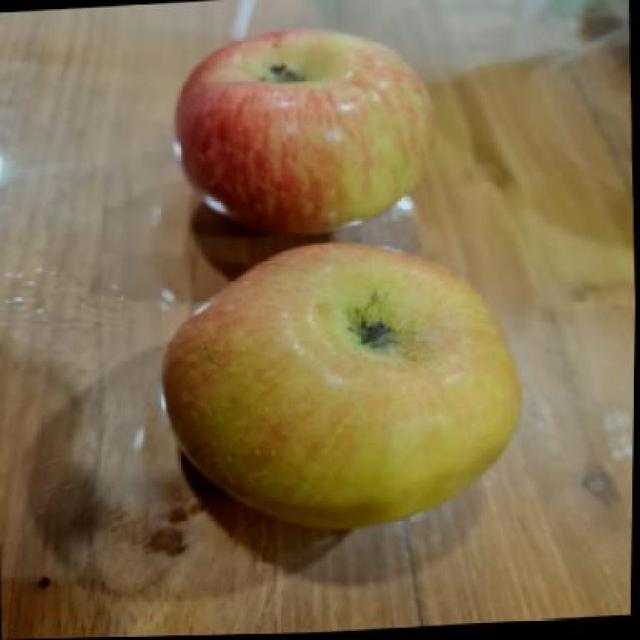Fresh Apple: (150, 236, 525, 533), (176, 33, 443, 241)
